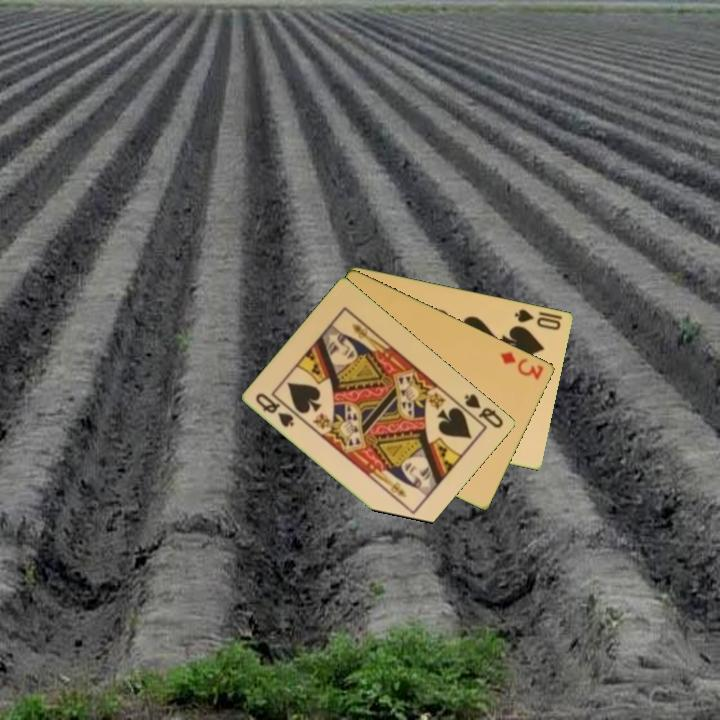10s: (511, 305, 564, 333)
3d: (497, 348, 547, 382)
Qs: (461, 390, 507, 431), (252, 389, 297, 430)
